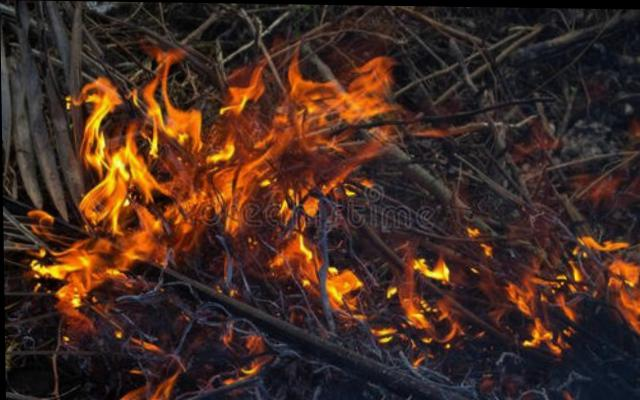fire: (51, 49, 639, 371)
